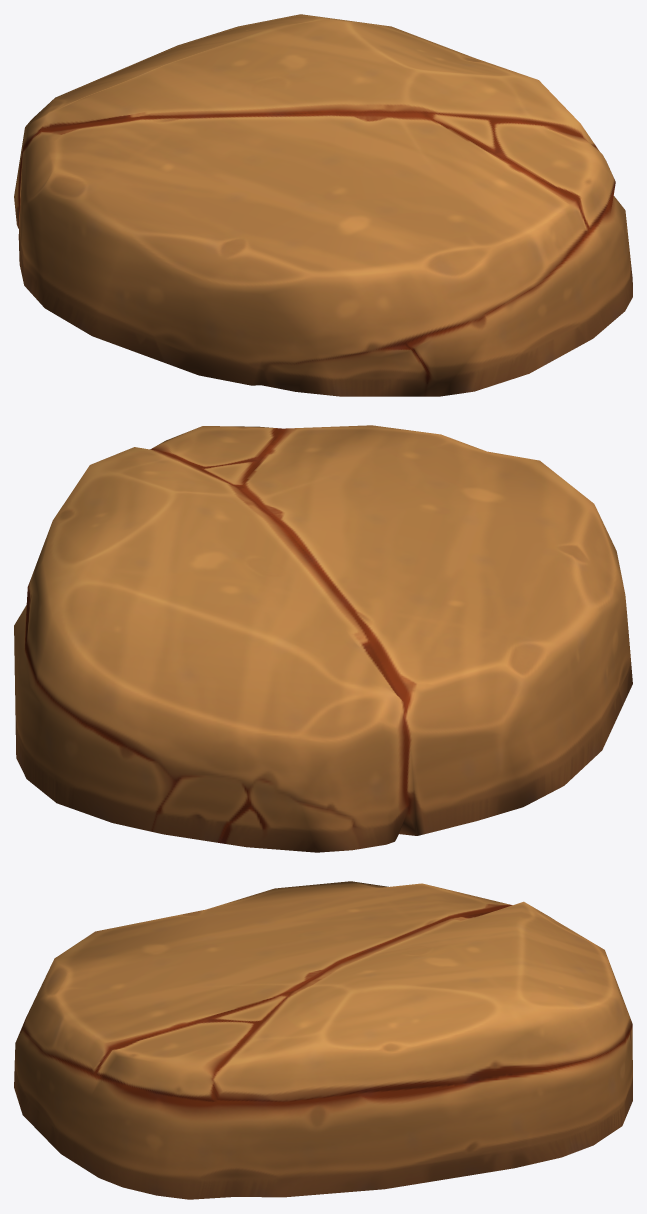
The model's file is Rock_Large_02.fbx.
3 renders of one model, top to bottom at view 1: azimuth 30°, elevation 25°; view 2: azimuth 150°, elevation 25°; view 3: azimuth 270°, elevation 25°, orthographic. The views are drawn at different scales.
Parts seen in each view (by area): view 1: Rock_Large_02; view 2: Rock_Large_02; view 3: Rock_Large_02.
Part boxes in pixels (bbox=[...]): Rock_Large_02: bbox=[14, 14, 632, 396]; Rock_Large_02: bbox=[14, 425, 632, 852]; Rock_Large_02: bbox=[14, 881, 632, 1199].
Bounding box in the file's own units: 64.92 × 21.18 × 76.52.
